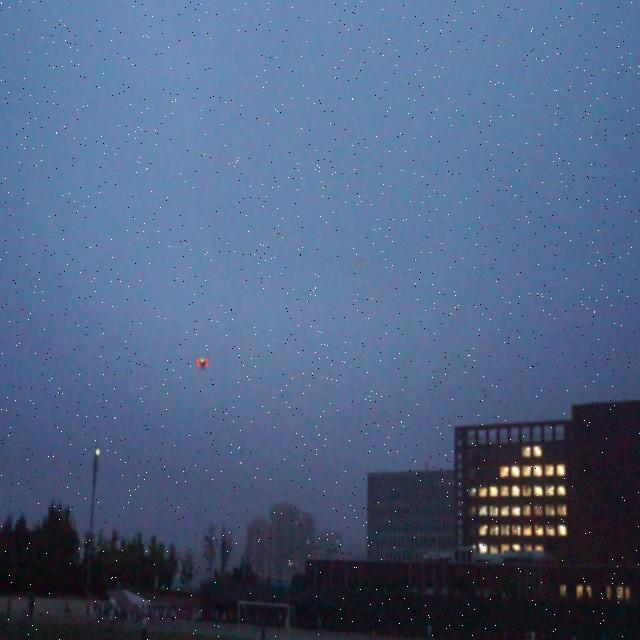UAV: (195, 356, 210, 372)
